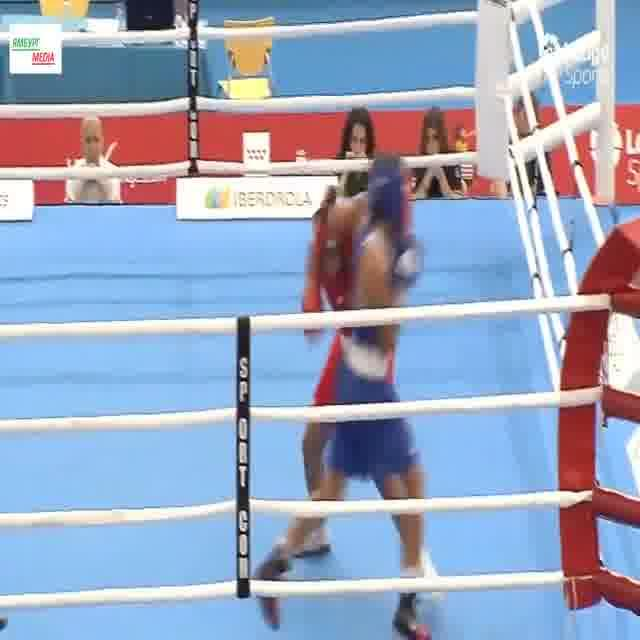blue-player: (247, 154, 432, 640)
red-player: (283, 162, 442, 598)
